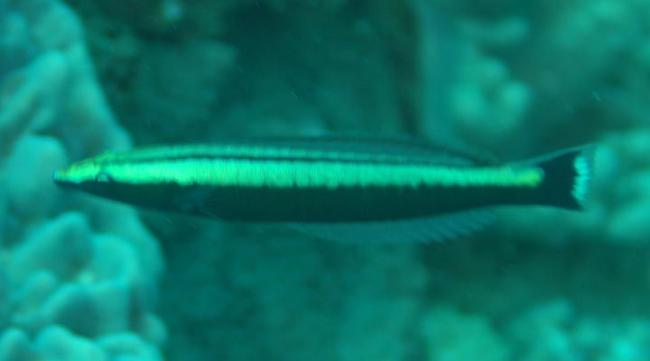fish: (52, 132, 597, 243)
